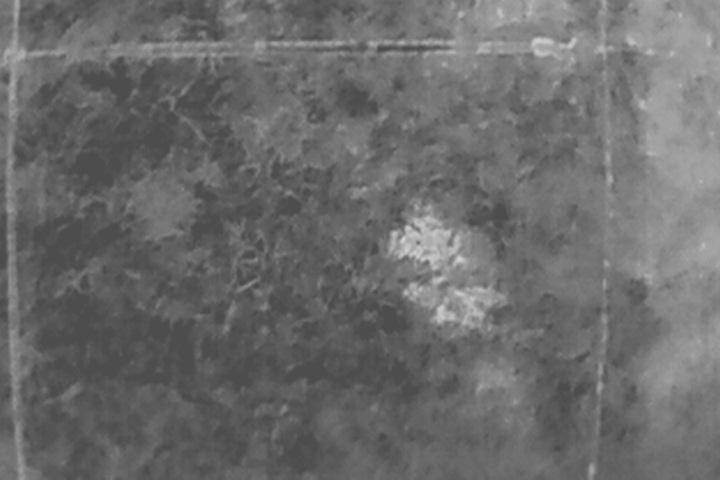landmine: (398, 222, 455, 258)
